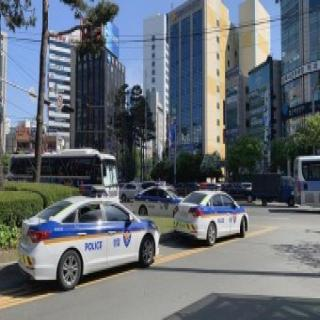Police_car: (18, 191, 162, 294), (174, 180, 252, 247), (130, 180, 186, 218)
